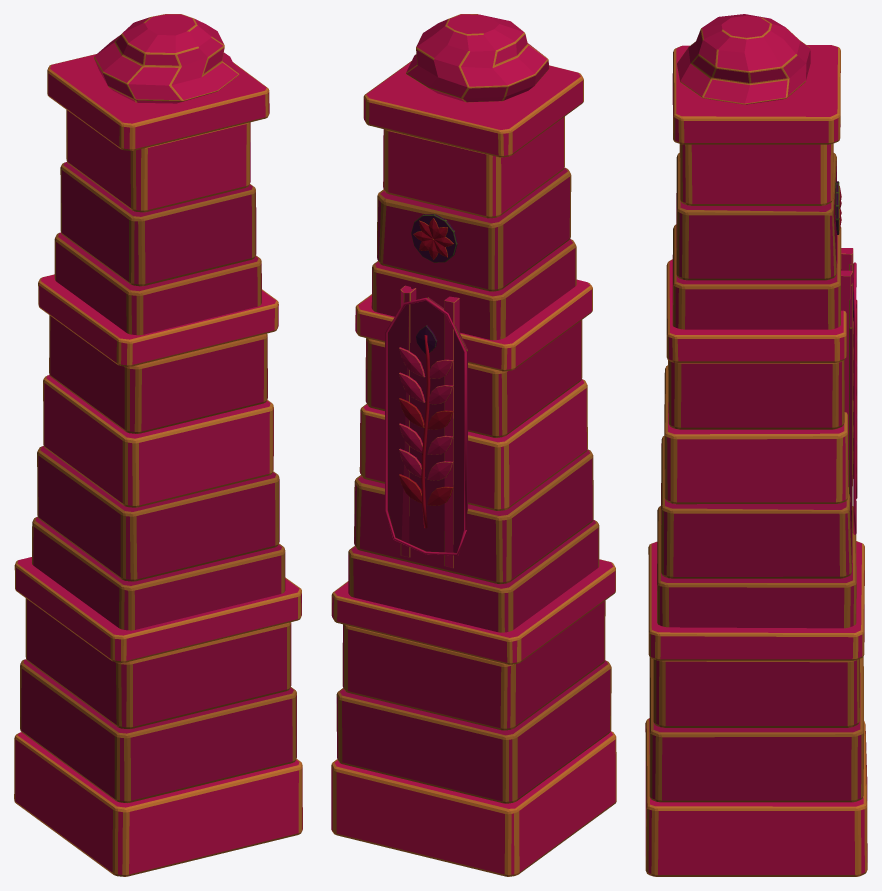
The model's file is SM_RV_Buttress.fbx.
The picture shows the model from 3 angles, left to right: view 1: azimuth 30°, elevation 25°; view 2: azimuth 150°, elevation 25°; view 3: azimuth 270°, elevation 25°; orthographic projection. The views are drawn at different scales.
Visible parts, largest first — view 1: SM_RV_Buttress; view 2: SM_RV_Buttress; view 3: SM_RV_Buttress.
Part boxes in pixels (bbox=[...]): SM_RV_Buttress: bbox=[14, 14, 302, 876]; SM_RV_Buttress: bbox=[331, 14, 616, 876]; SM_RV_Buttress: bbox=[645, 14, 867, 876].
Size of what is drawn, in the model's own units: 180 by 181 by 723.
